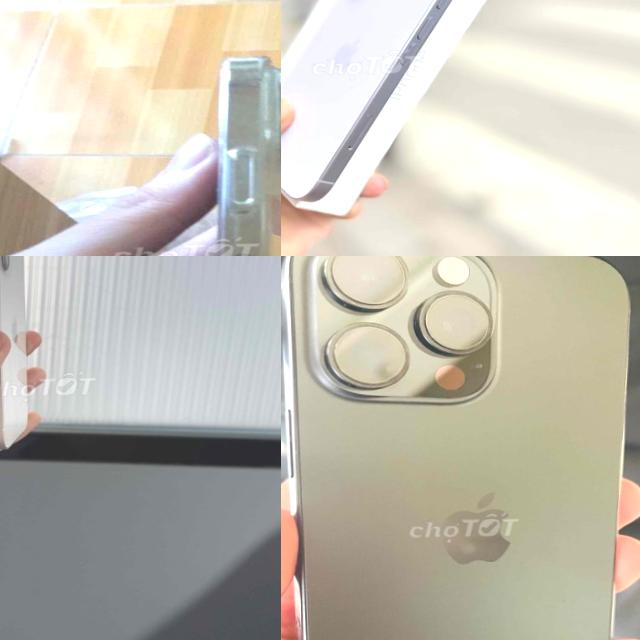gen_12_13: (0, 256, 46, 447)
gen_14: (189, 49, 281, 256)
gen_16: (281, 256, 628, 640)
gen_17: (281, 0, 485, 213)
